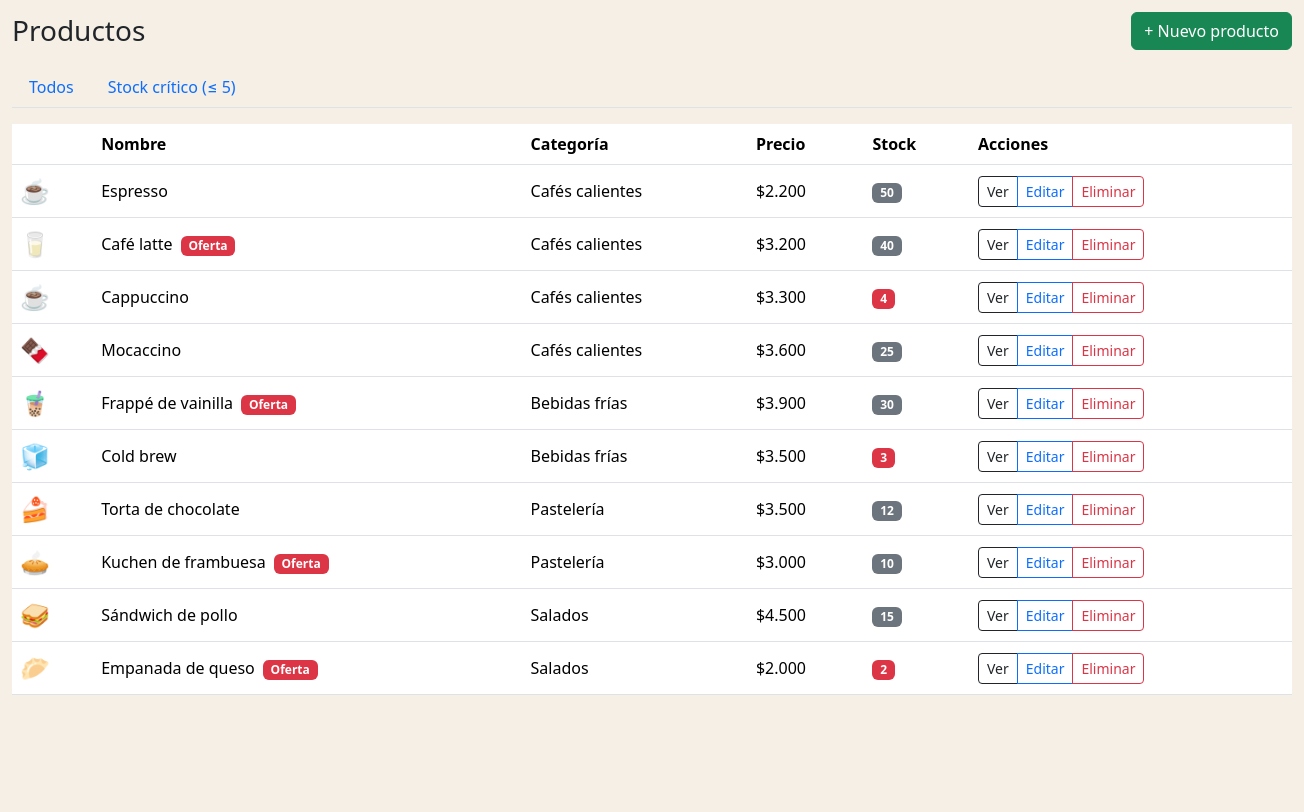
Test: Pruebas del Inspector de Productos (AdminProductosView) › elimina un producto después de confirmar
The width and height of the screenshot is (1304, 812).
Note: ACTUAR (Petición): El robot hace clic en eliminar específicamente el "Espresso"
Click the button with aria-label "Eliminar Espresso": [1108, 191] box [1072,176,1144,206]
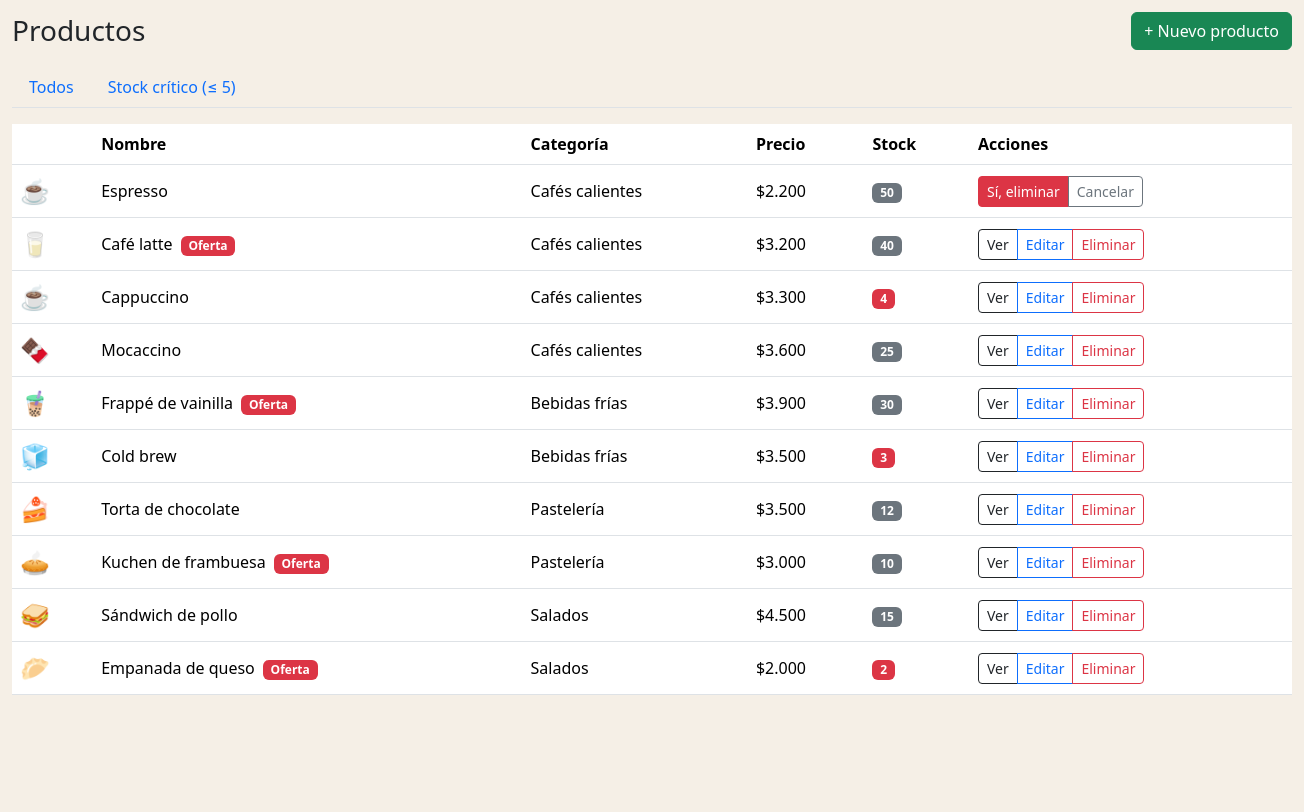
Click the button "Sí, eliminar": [1023, 191] box [978,176,1069,206]
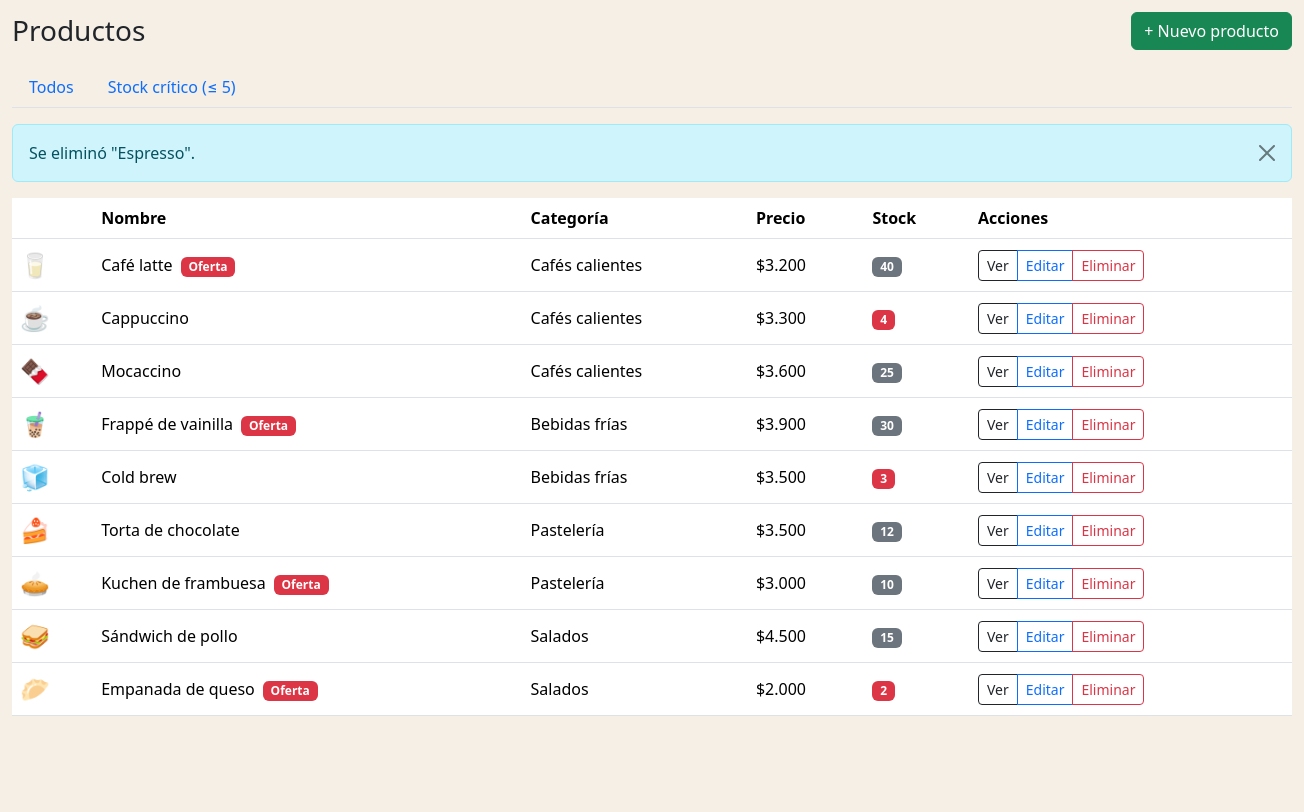
Expected: the number of buttons "eliminar " is 9
